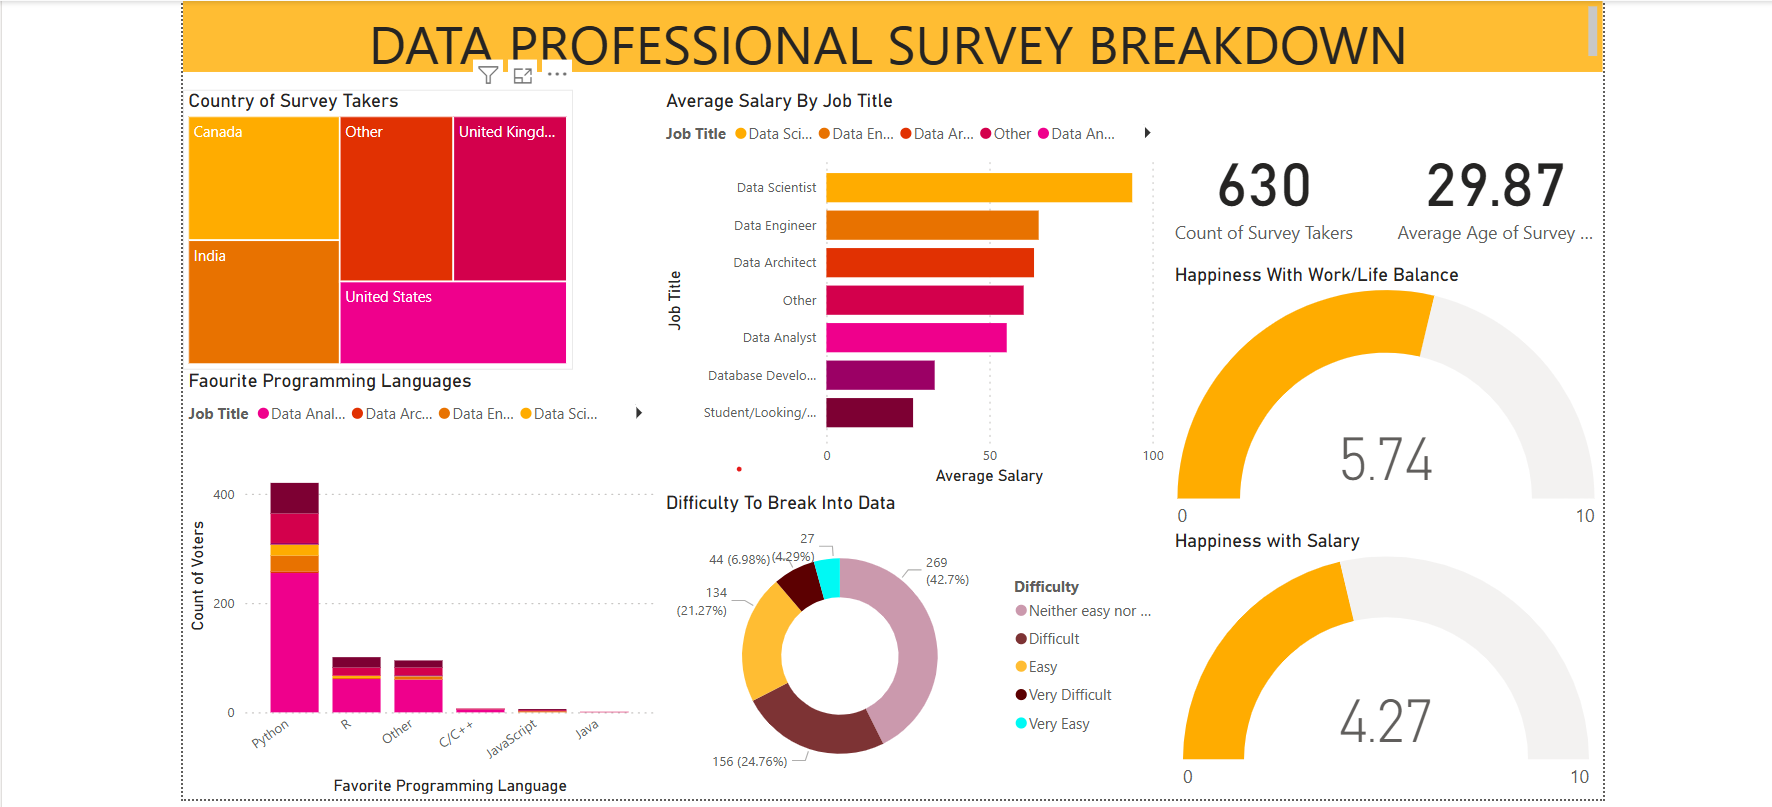

The dashboard page shown, as its layout file describes it:
{"tool":"powerbi","page":{"name":"Page 1","canvas":[1280,720],"ordinal":0},"visuals":[{"type":"textbox","box":[0,0,1280.3,63.8],"z":0},{"type":"card","fields":{"Values":["CountNonNull(Data Professional Survey.Unique ID)"]},"box":[873.9,110,202.5,118.8],"z":1000},{"type":"card","fields":{"Values":["Avg(Data Professional Survey.Q10 - Current Age)"]},"box":[1086.5,110,193.8,118.8],"z":2000},{"type":"barChart","title":"Average Salary By Job Title","fields":{"Category":["Data Professional Survey.Q1 - Which Title Best Fits your Current Role?.1"],"Y":["Avg(Data Professional Survey.Average Salary)"],"Series":["Data Professional Survey.Q1 - Which Title Best Fits your Current Role?.1"]},"box":[430.1,80,458.8,361.3],"z":3000},{"type":"columnChart","title":"Faourite Programming Languages","fields":{"Category":["Data Professional Survey.Q5 - Favorite Programming Language.1"],"Y":["CountNonNull(Data Professional Survey.Unique ID)"],"Series":["Data Professional Survey.Q1 - Which Title Best Fits your Current Role?.1"]},"box":[0,332.6,430.4,387.6],"z":4000},{"type":"treemap","title":"Country of Survey Takers","fields":{"Group":["Data Professional Survey.Q11 - Which Country do you live in?.1"],"Values":["Count(Data Professional Survey.Q11 - Which Country do you live in?.1)"]},"box":[0,80,351.3,252.6],"z":5000},{"type":"gauge","title":"Happiness with Work/Life Balance","fields":{"Y":["Avg(Data Professional Survey.Q6 - How Happy are you in your Current Position with the following? (Work/Life Balance))"],"MinValue":["Min(Data Professional Survey.Q6 - How Happy are you in your Current Position with the following? (Work/Life Balance))1"],"MaxValue":["Max(Data Professional Survey.Q6 - How Happy are you in your Current Position with the following? (Work/Life Balance))2"]},"box":[888.9,236.3,391.3,248.8],"z":6000},{"type":"gauge","title":"Happiness with Salary","fields":{"Y":["Avg(Data Professional Survey.Q6 - How Happy are you in your Current Position with the following? (Salary))"],"MinValue":["Min(Data Professional Survey.Q6 - How Happy are you in your Current Position with the following? (Salary))"],"MaxValue":["Max(Data Professional Survey.Q6 - How Happy are you in your Current Position with the following? (Salary))"]},"box":[888.9,476.3,391.3,243.8],"z":7000},{"type":"donutChart","title":"Difficulty To Break Into Data","fields":{"Category":["Data Professional Survey.Q7 - How difficult was it for you to break into Data?"],"Y":["CountNonNull(Data Professional Survey.Q7 - How difficult was it for you to break into Data?)"]},"box":[430.1,441.3,458.8,278.8],"z":8000}]}

Visuals, with their boxes on the page's 1280x720 design canvas (x1, y1, x2, y2). These are canvas units, not pixel positions in the 1772x807 screenshot, which may show the page scaled, cropped or inside an application window:
textbox: Rect(0, 0, 1280, 64)
card - CountNonNull(Data Professional Survey.Unique ID): Rect(874, 110, 1076, 229)
card - Avg(Data Professional Survey.Q10 - Current Age): Rect(1086, 110, 1280, 229)
"Average Salary By Job Title" barChart: Rect(430, 80, 889, 441)
"Faourite Programming Languages" columnChart: Rect(0, 333, 430, 720)
"Country of Survey Takers" treemap: Rect(0, 80, 351, 333)
"Happiness with Work/Life Balance" gauge: Rect(889, 236, 1280, 485)
"Happiness with Salary" gauge: Rect(889, 476, 1280, 720)
"Difficulty To Break Into Data" donutChart: Rect(430, 441, 889, 720)
